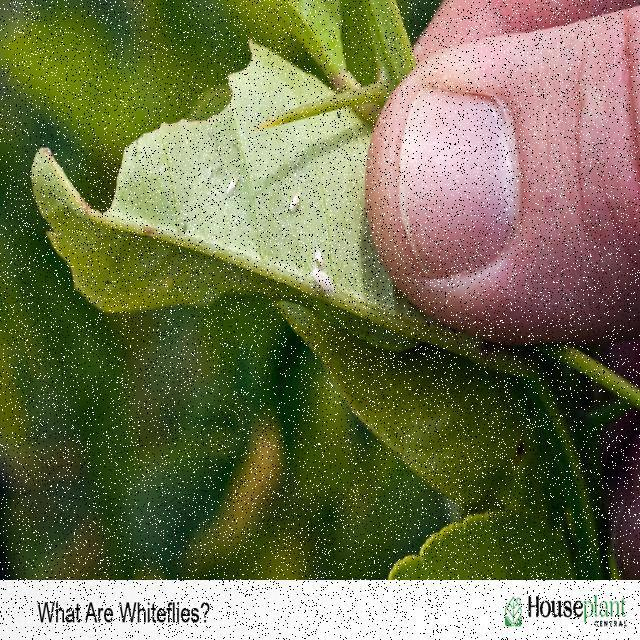Whiteflies: (306, 265, 343, 317), (276, 185, 311, 226), (221, 163, 250, 209), (310, 238, 334, 277)
